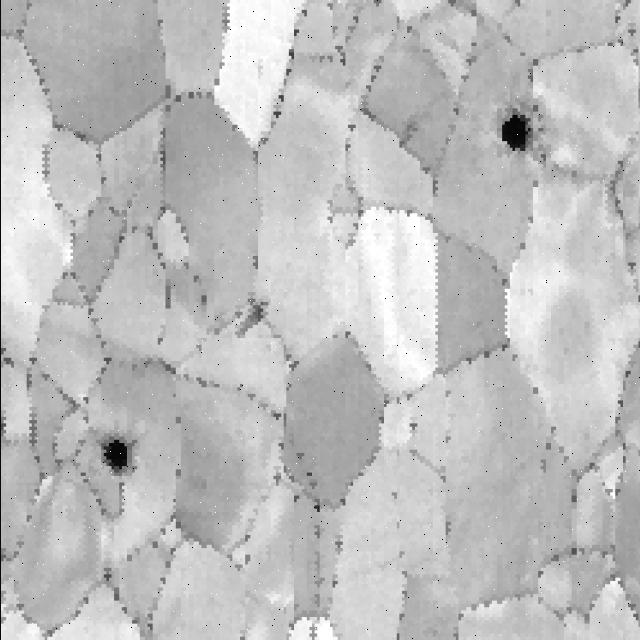good_void: (100, 406, 143, 508), (484, 94, 532, 158), (234, 297, 269, 341)
